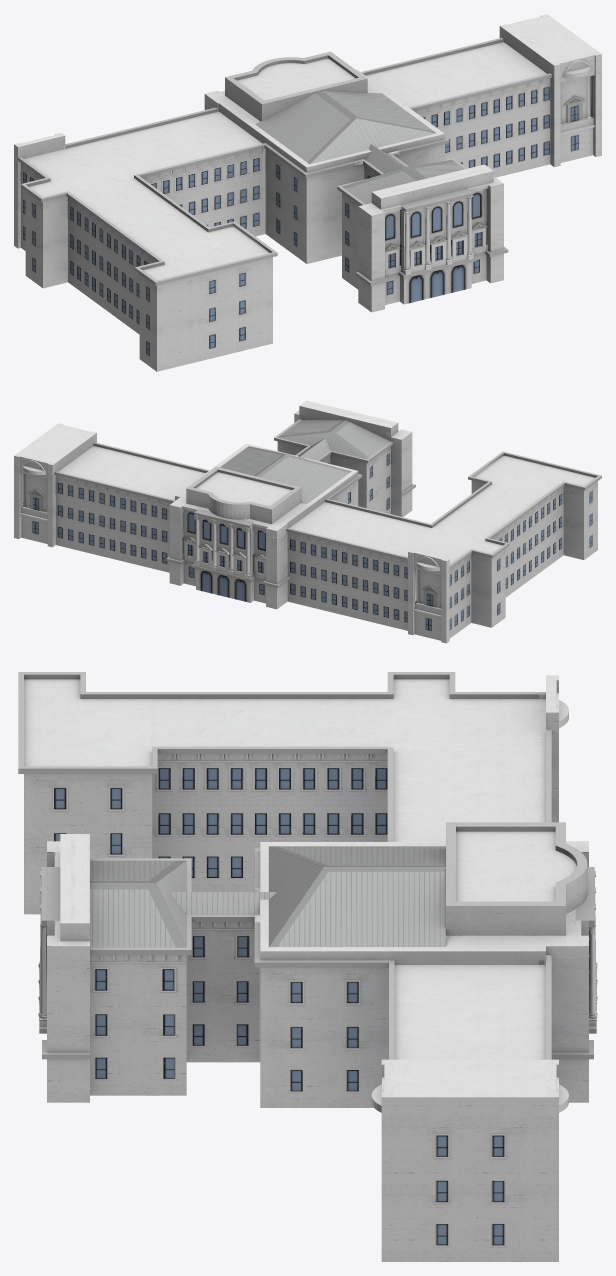
File: DniprovskaOblasnaRada_h+l.gltf
3 views of the same model, one above another, from view 1: azimuth 30°, elevation 25°; view 2: azimuth 150°, elevation 25°; view 3: azimuth 270°, elevation 25° (orthographic). The views are drawn at different scales.
Parts seen in each view (by area): view 1: d645d461-f3f6-4045-895d-5a01a2db0c29; view 2: d645d461-f3f6-4045-895d-5a01a2db0c29; view 3: d645d461-f3f6-4045-895d-5a01a2db0c29.
Boxes of the visible parts, box(x1,y1,x2,y2) form: d645d461-f3f6-4045-895d-5a01a2db0c29: box(14, 14, 601, 371); d645d461-f3f6-4045-895d-5a01a2db0c29: box(14, 400, 601, 643); d645d461-f3f6-4045-895d-5a01a2db0c29: box(18, 672, 597, 1261).
Size of the model in its own units: 50.98 by 10.02 by 28.24.
Materials: 3 (3 with a texture image).
